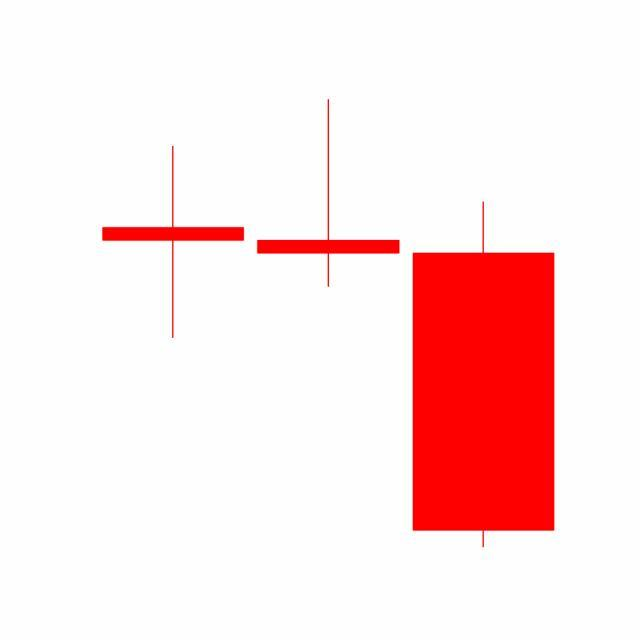Spinning Top: (250, 97, 407, 290)
